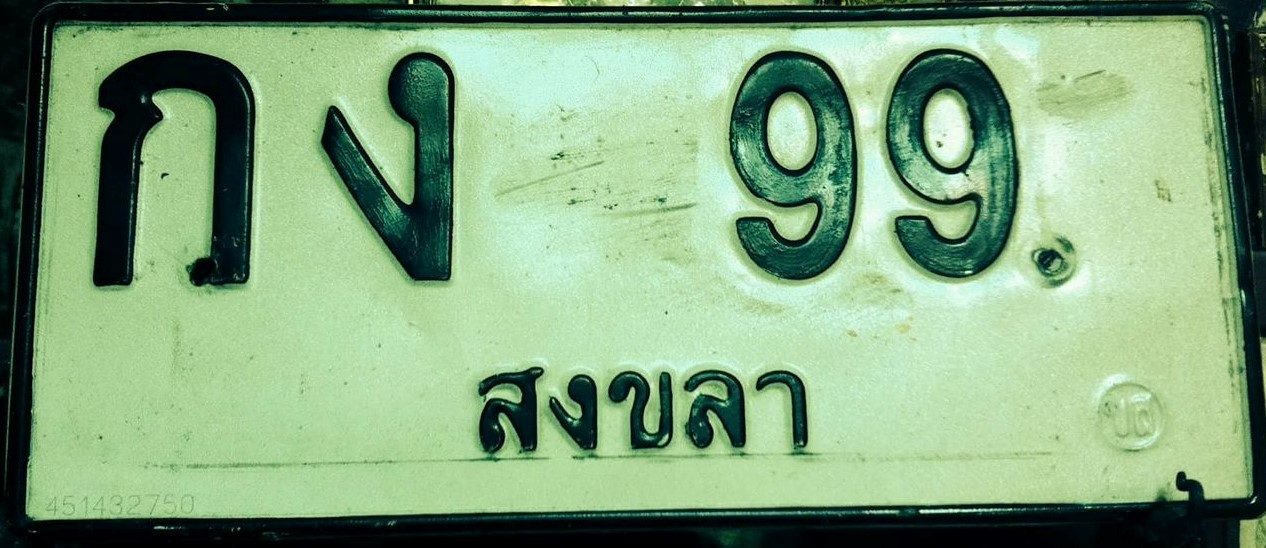txt01: (88, 46, 260, 296)
txt05: (314, 46, 462, 292)
